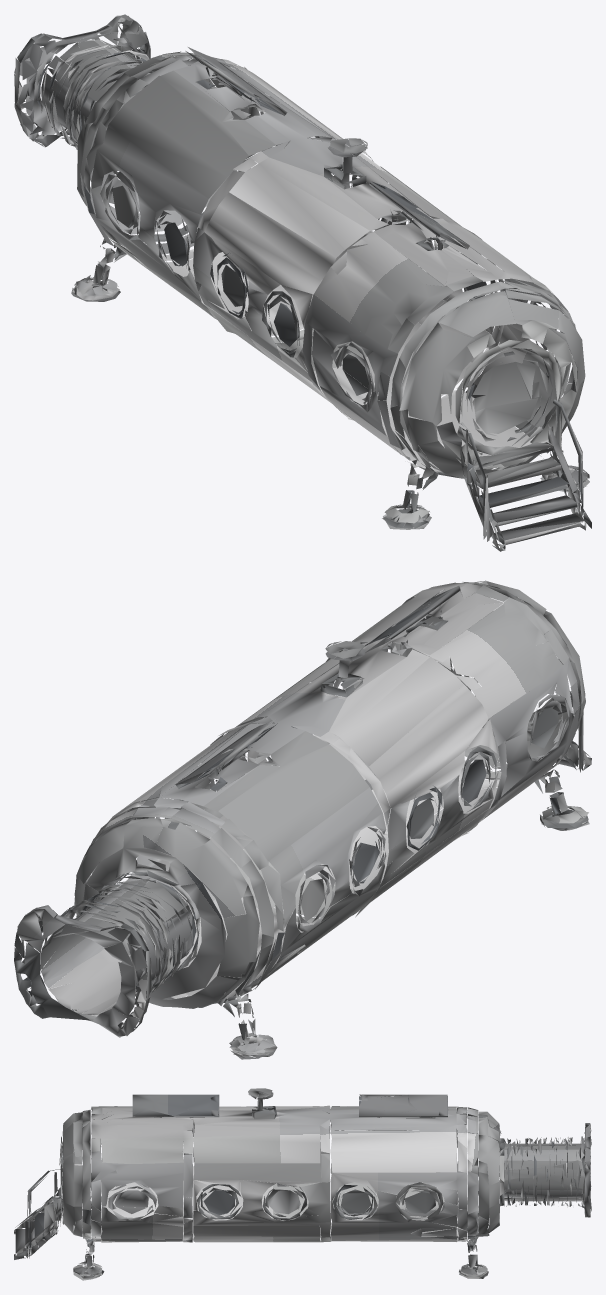
File: habitat.glb
3 views of the same model, one above another, from view 1: azimuth 30°, elevation 25°; view 2: azimuth 150°, elevation 25°; view 3: azimuth 270°, elevation 25° (orthographic). The views are drawn at different scales.
Parts seen in each view (by area): view 1: LO.001; view 2: LO.001; view 3: LO.001.
Part boxes in pixels (x1=…): LO.001: x1=14, y1=14, x2=591, y2=551; LO.001: x1=14, y1=580, x2=591, y2=1059; LO.001: x1=14, y1=1088, x2=591, y2=1280.
Size of the model in its own units: 3.35 by 4.06 by 13.42.
Materials: 1 (1 with a texture image).
